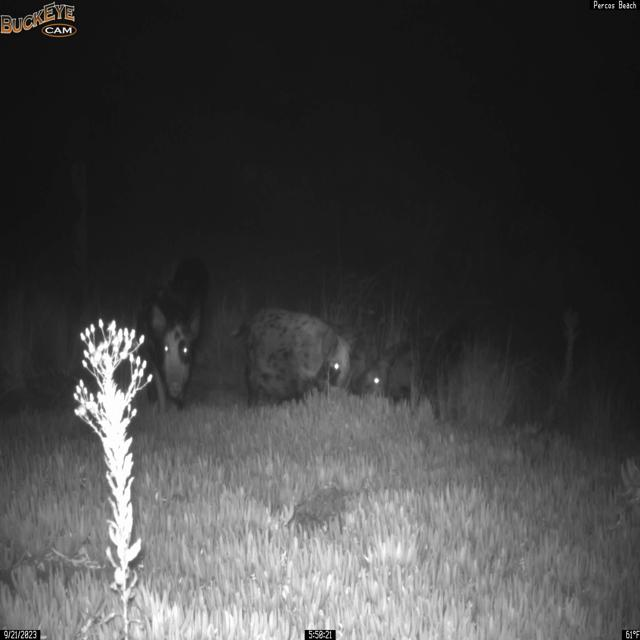pig: (230, 306, 358, 409)
